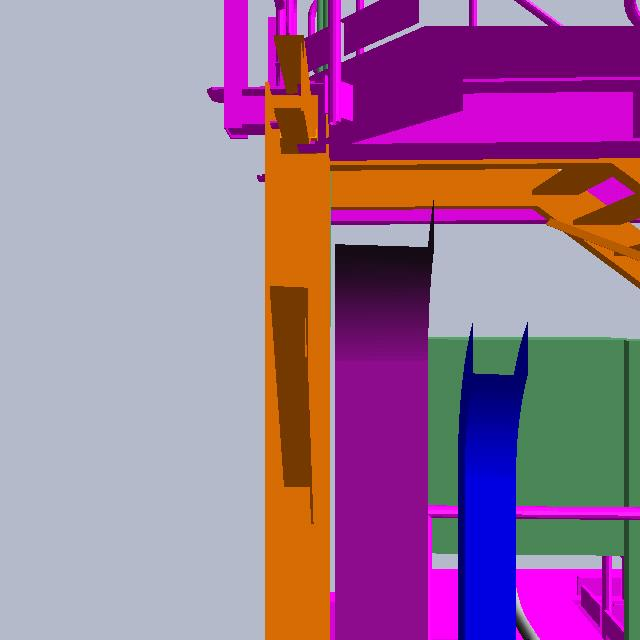Soporte: (197, 1, 279, 153)
